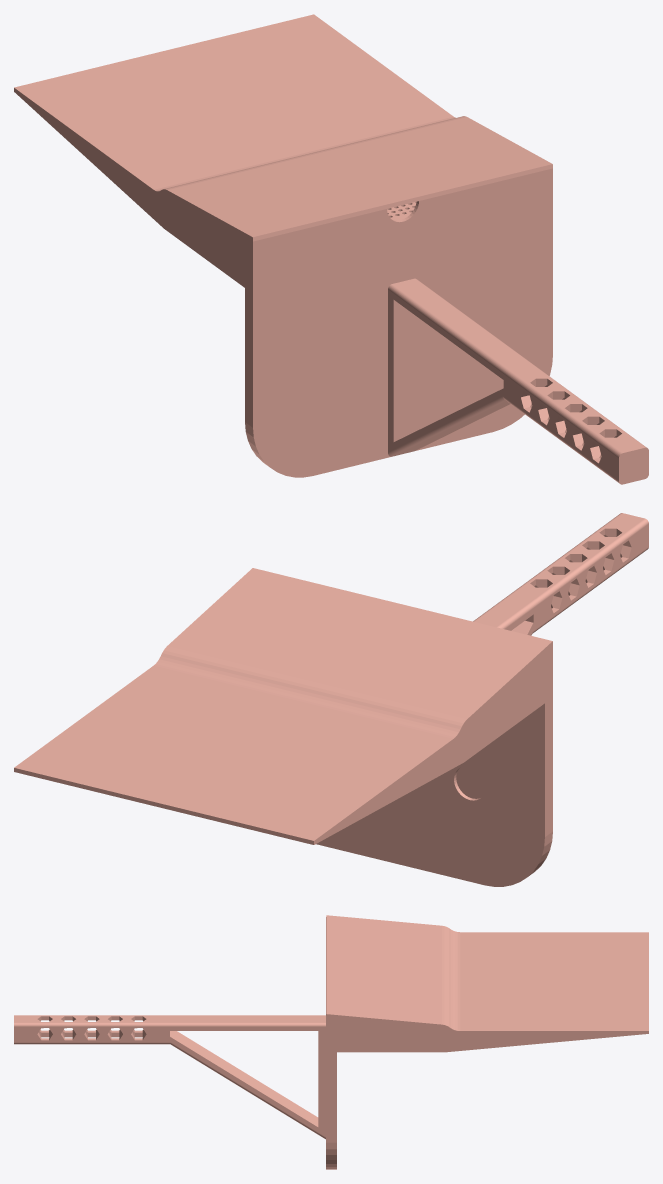
File: Fine Dust Sample Collector v1 (1).glb
The picture shows the model from 3 angles, top to bottom: view 1: azimuth 30°, elevation 25°; view 2: azimuth 150°, elevation 25°; view 3: azimuth 270°, elevation 25°; orthographic projection. The views are drawn at different scales.
Bounding box in the file's own units: 150 × 121 × 407.
